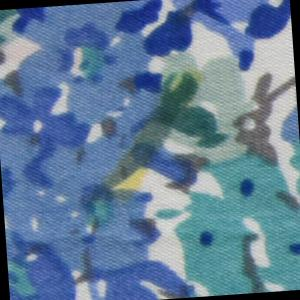Stain: (89, 69, 216, 206)
